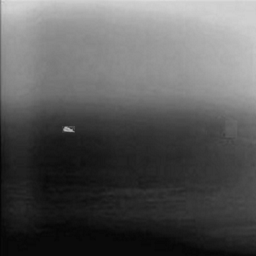Target: (61, 125, 75, 133)
